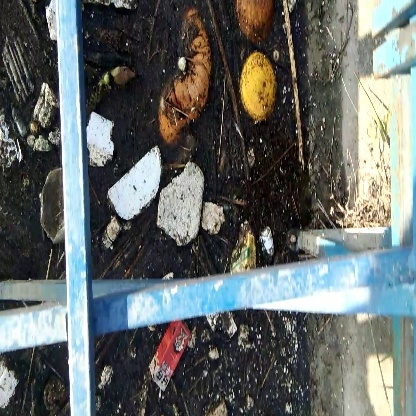ball: (234, 42, 283, 124)
milk-box: (146, 322, 197, 396)
